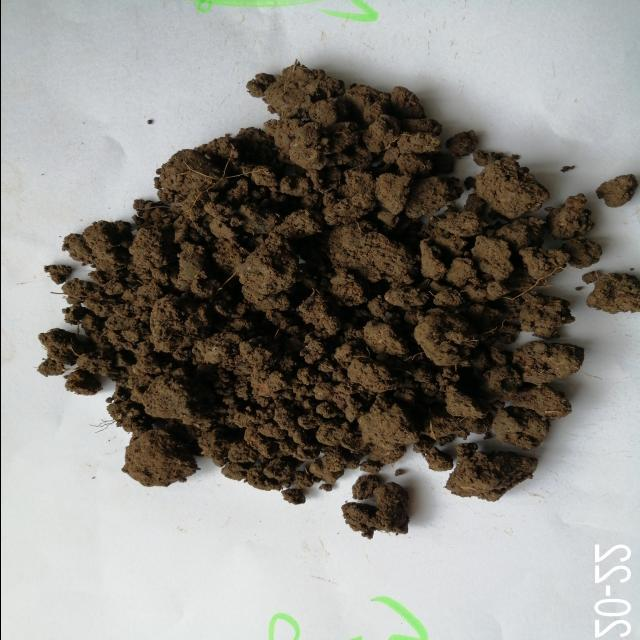soil: (140, 162, 536, 436)
